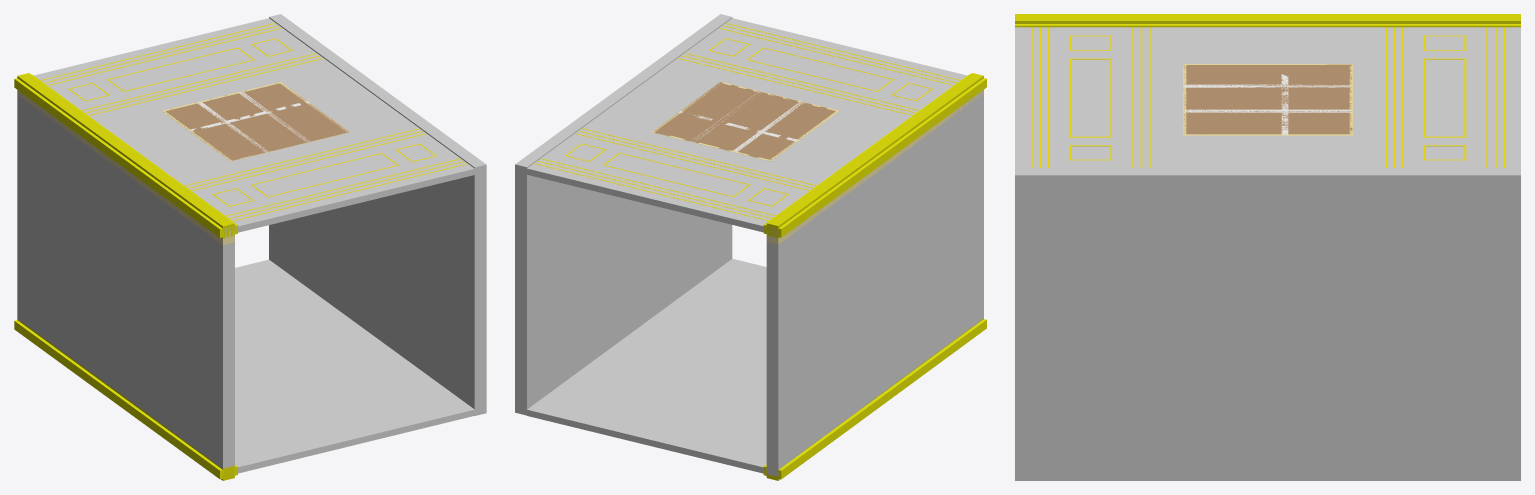
The model's file is nhatrai.fbx.
3 views of the same model, side by side, from view 1: azimuth 30°, elevation 25°; view 2: azimuth 150°, elevation 25°; view 3: azimuth 270°, elevation 25° (orthographic). The views are drawn at different scales.
Parts seen in each view (by area): view 1: imagetostl_mesh49, imagetostl_mesh3, imagetostl_mesh50, imagetostl_mesh54, imagetostl_mesh11, imagetostl_mesh0, imagetostl_mesh1, imagetostl_mesh52, imagetostl_mesh48, imagetostl_mesh51; view 2: imagetostl_mesh49, imagetostl_mesh3, imagetostl_mesh50, imagetostl_mesh54, imagetostl_mesh11, imagetostl_mesh0, imagetostl_mesh52, imagetostl_mesh1, imagetostl_mesh48; view 3: imagetostl_mesh50, imagetostl_mesh3, imagetostl_mesh11, imagetostl_mesh0, imagetostl_mesh2, imagetostl_mesh9, imagetostl_mesh8.
Boxes of the visible parts, x1=… form: imagetostl_mesh49: x1=17, y1=91, x2=234, y2=469; imagetostl_mesh3: x1=34, y1=18, x2=474, y2=232; imagetostl_mesh50: x1=269, y1=14, x2=486, y2=415; imagetostl_mesh54: x1=235, y1=259, x2=474, y2=473; imagetostl_mesh11: x1=166, y1=83, x2=348, y2=160; imagetostl_mesh0: x1=17, y1=73, x2=234, y2=238; imagetostl_mesh1: x1=14, y1=78, x2=223, y2=237; imagetostl_mesh52: x1=14, y1=320, x2=223, y2=479; imagetostl_mesh48: x1=17, y1=90, x2=234, y2=244; imagetostl_mesh51: x1=17, y1=319, x2=234, y2=480; imagetostl_mesh49: x1=766, y1=90, x2=983, y2=476; imagetostl_mesh3: x1=527, y1=18, x2=967, y2=232; imagetostl_mesh50: x1=515, y1=14, x2=732, y2=415; imagetostl_mesh54: x1=527, y1=258, x2=766, y2=473; imagetostl_mesh11: x1=654, y1=82, x2=835, y2=159; imagetostl_mesh0: x1=766, y1=73, x2=983, y2=238; imagetostl_mesh52: x1=778, y1=319, x2=986, y2=479; imagetostl_mesh1: x1=778, y1=78, x2=986, y2=237; imagetostl_mesh48: x1=766, y1=90, x2=983, y2=244; imagetostl_mesh50: x1=1015, y1=168, x2=1520, y2=480; imagetostl_mesh3: x1=1015, y1=27, x2=1520, y2=167; imagetostl_mesh11: x1=1183, y1=64, x2=1352, y2=134; imagetostl_mesh0: x1=1015, y1=14, x2=1520, y2=23; imagetostl_mesh2: x1=1015, y1=24, x2=1520, y2=27; imagetostl_mesh9: x1=1184, y1=109, x2=1351, y2=112; imagetostl_mesh8: x1=1183, y1=84, x2=1352, y2=87.
Bounding box in the file's own units: 22450 × 20524 × 30002.
